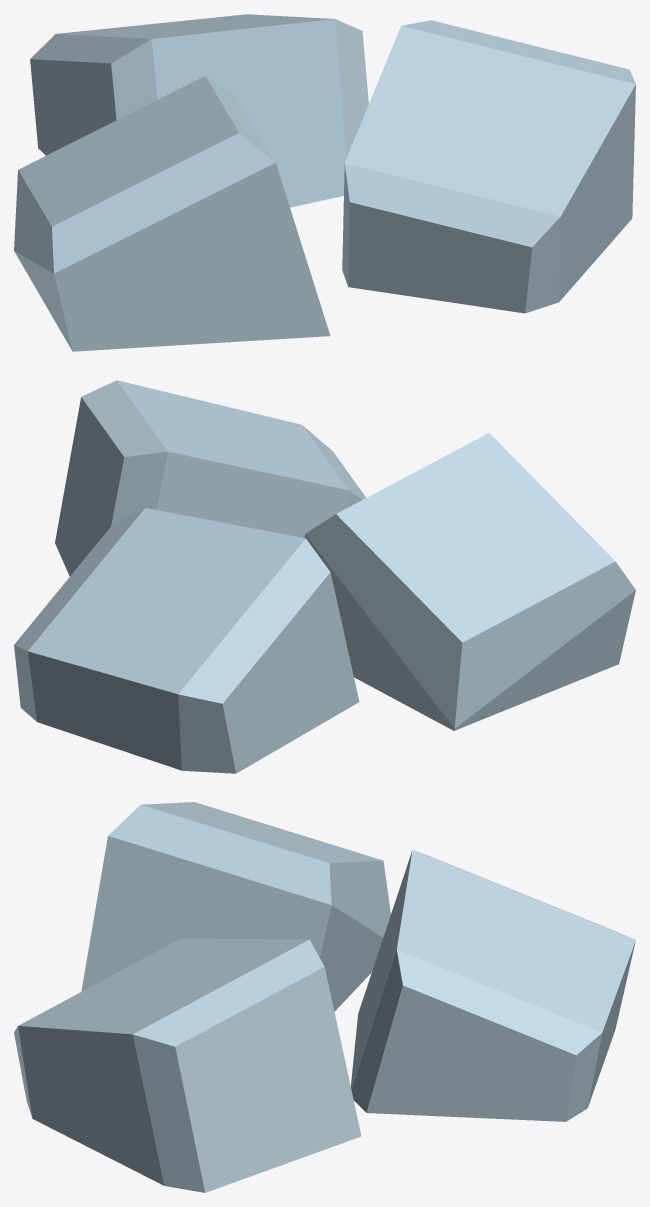
File: SM_Prop_Glass_Ice_02.obj
The picture shows the model from 3 angles, top to bottom: view 1: azimuth 30°, elevation 25°; view 2: azimuth 150°, elevation 25°; view 3: azimuth 270°, elevation 25°; orthographic projection. The views are drawn at different scales.
Visible parts, largest first — view 1: SM_Prop_Glass_Ice_02_0; view 2: SM_Prop_Glass_Ice_02_0; view 3: SM_Prop_Glass_Ice_02_0.
Boxes of the visible parts, bbox=[...] form: SM_Prop_Glass_Ice_02_0: bbox=[14, 14, 635, 351]; SM_Prop_Glass_Ice_02_0: bbox=[14, 380, 635, 773]; SM_Prop_Glass_Ice_02_0: bbox=[14, 802, 635, 1192].
Bounding box in the file's own units: 0.0637 × 0.02 × 0.0597.
Materials: 1 (1 with a texture image).
